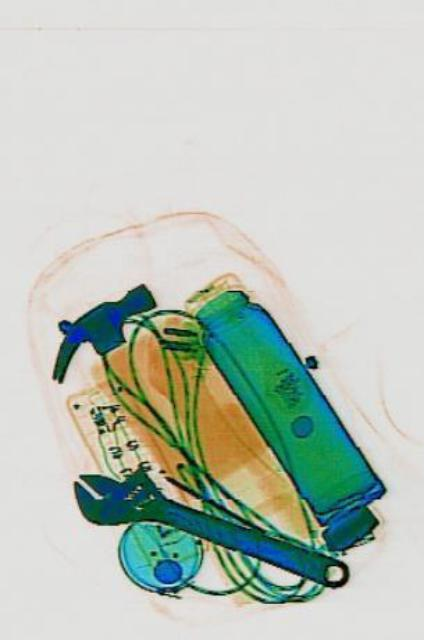Wrench: (64, 444, 350, 610)
